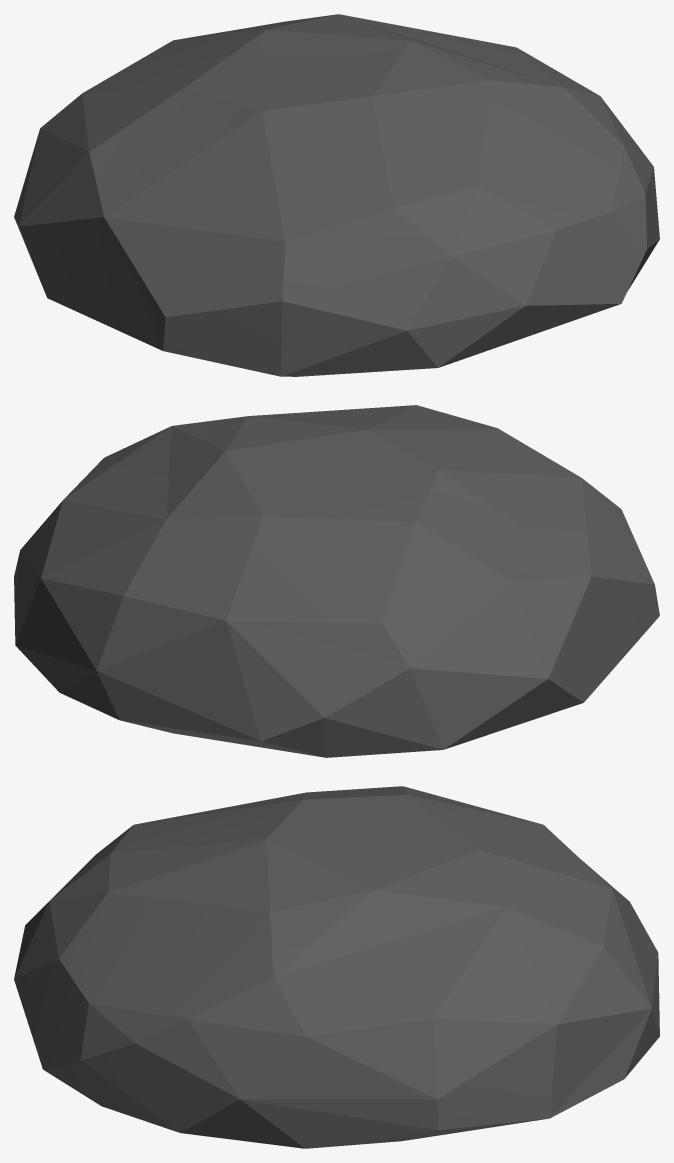
The model's file is Piedra_02.glb.
The picture shows the model from 3 angles, top to bottom: view 1: azimuth 30°, elevation 25°; view 2: azimuth 150°, elevation 25°; view 3: azimuth 270°, elevation 25°; orthographic projection. The views are drawn at different scales.
Parts seen in each view (by area): view 1: SM_Env_Rock_05_1; view 2: SM_Env_Rock_05_1; view 3: SM_Env_Rock_05_1.
Part boxes in pixels (box(x1,y1,x2,y2)): SM_Env_Rock_05_1: box(14, 14, 659, 376); SM_Env_Rock_05_1: box(14, 405, 659, 757); SM_Env_Rock_05_1: box(14, 786, 659, 1148).
Size of the model in its own units: 1.42 by 0.514 by 1.44.
1 material, 1 textured.
